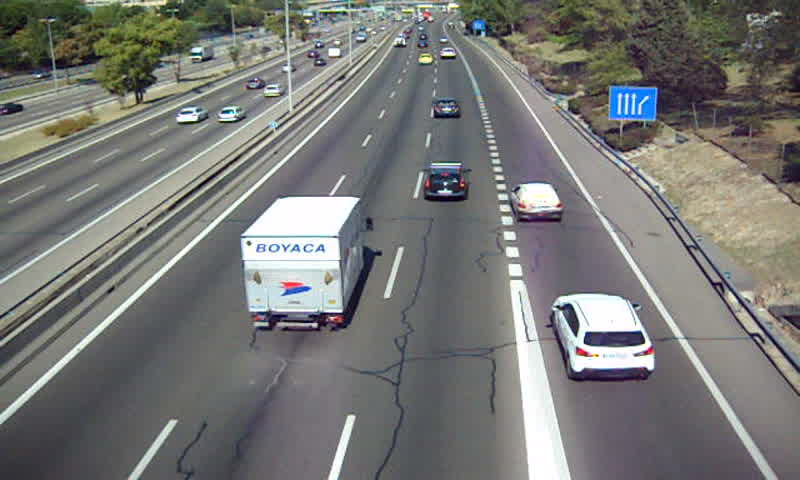car: (552, 293, 657, 382), (511, 182, 563, 220), (423, 162, 469, 199), (430, 98, 460, 120), (440, 47, 457, 59), (416, 52, 433, 64)
small-truck: (242, 197, 367, 329)
